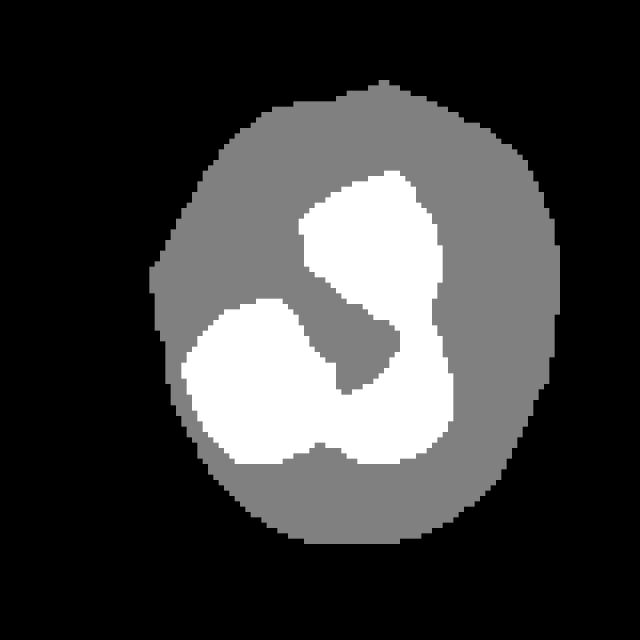WBC: (128, 70, 587, 550)
